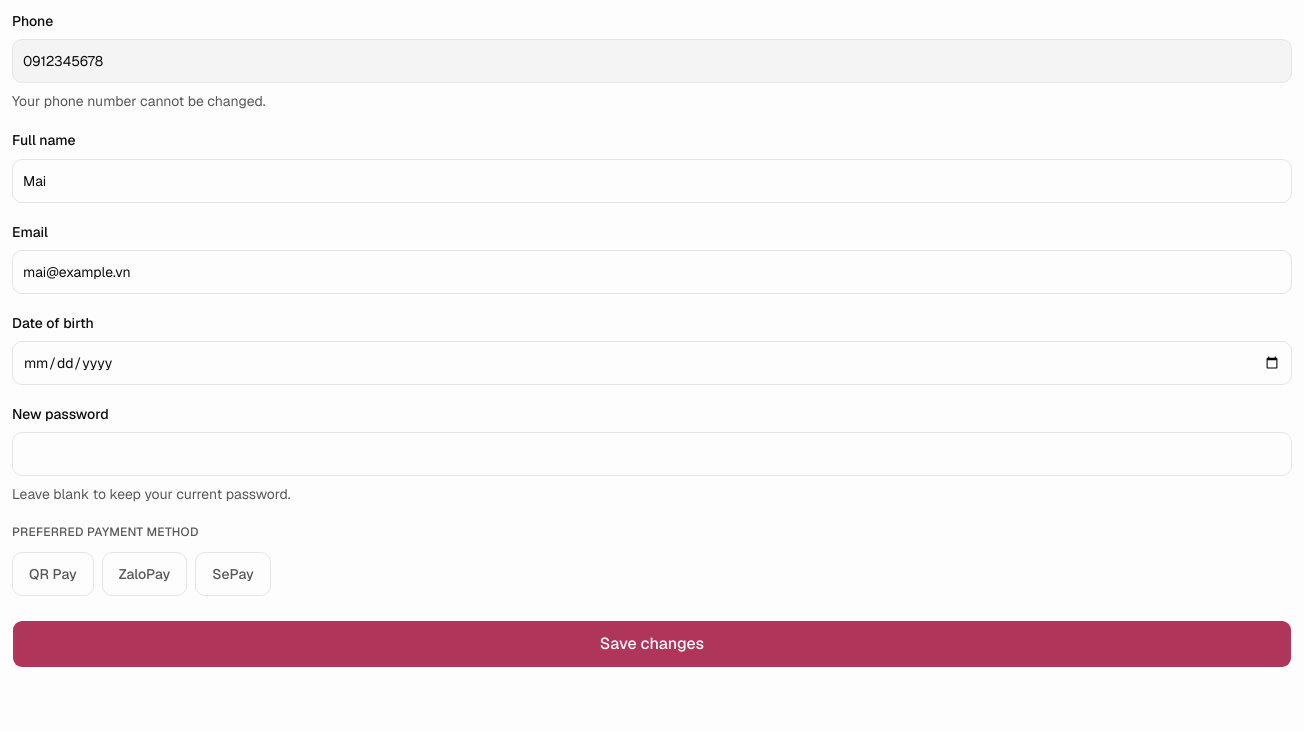
AccountForm › saves changed fields and confirms
Replace the text in the field labelled "Full name" with "Mai Nguyễn". click: (652, 180)
box: [12,158,1292,202]
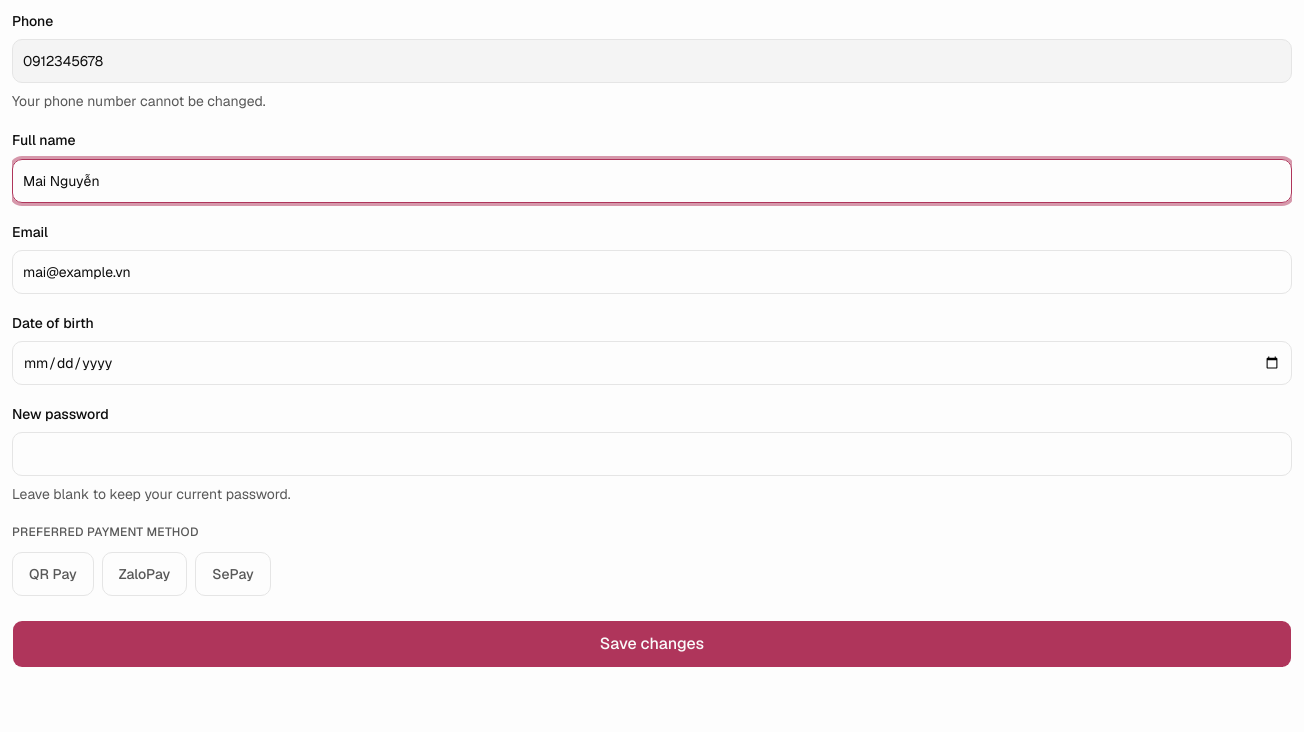
Click the button "Save changes". click: (652, 644)
box: [12,620,1292,668]
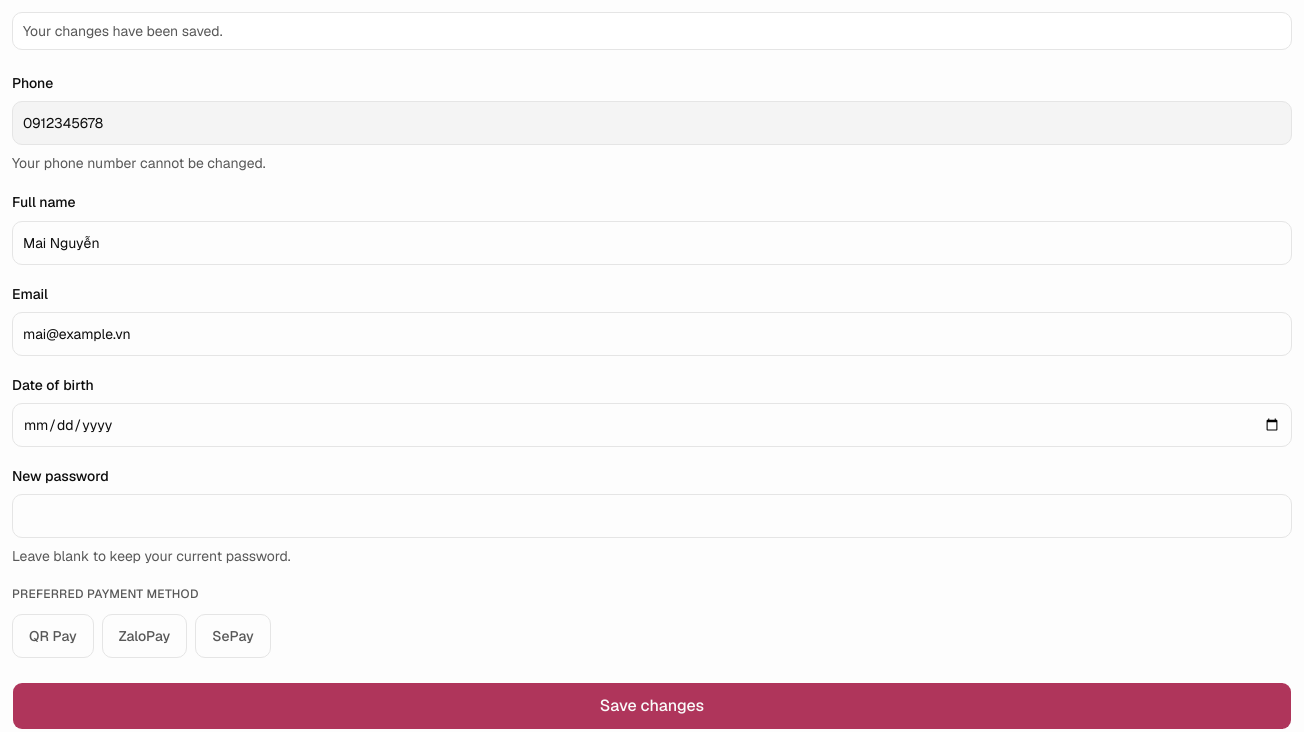
Check: the text "Your changes have been saved." is shown, box [23,22,222,40]
